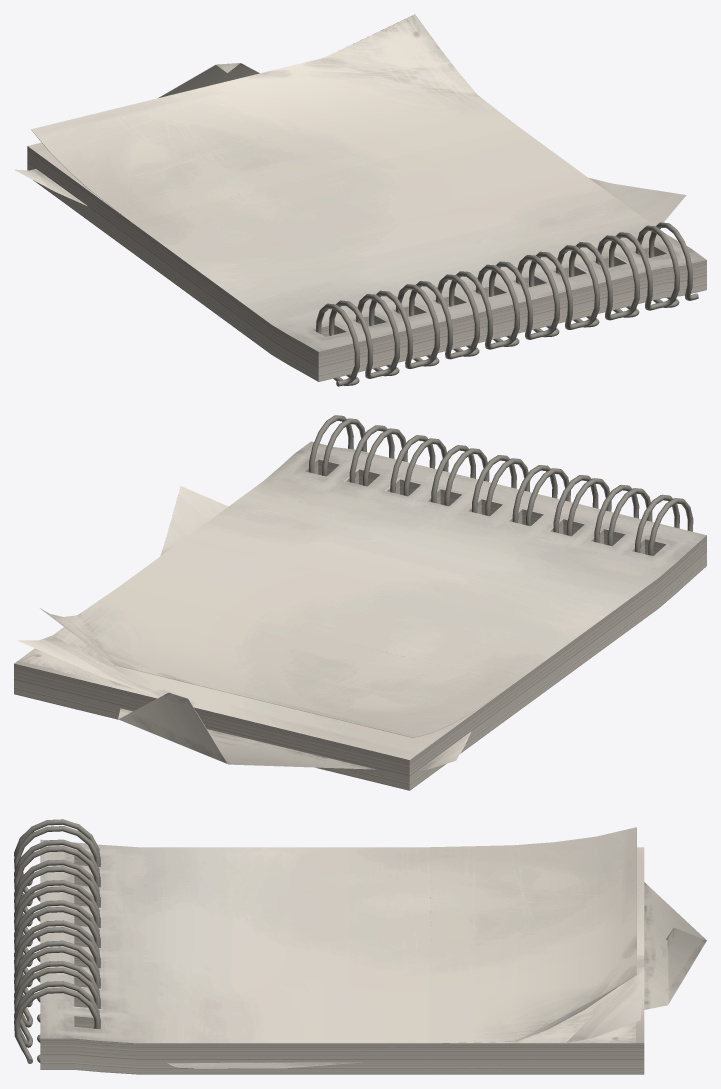
The model's file is notepad_with_ringbinders.glb.
The picture shows the model from 3 angles, top to bottom: view 1: azimuth 30°, elevation 25°; view 2: azimuth 150°, elevation 25°; view 3: azimuth 270°, elevation 25°; orthographic projection. The views are drawn at different scales.
Parts seen in each view (by area): view 1: Torus.002, Torus.003; view 2: Torus.002, Torus.003; view 3: Torus.002, Torus.003.
Part boxes in pixels (<box>): Torus.002: <box>14,14,706,381</box>; Torus.003: <box>316,222,698,386</box>; Torus.002: <box>14,441,706,790</box>; Torus.003: <box>308,415,693,555</box>; Torus.002: <box>40,827,706,1074</box>; Torus.003: <box>14,819,100,1063</box>.
Bounding box in the file's own units: 9.71 × 1.65 × 11.93.
Materials: 1 (1 with a texture image).
